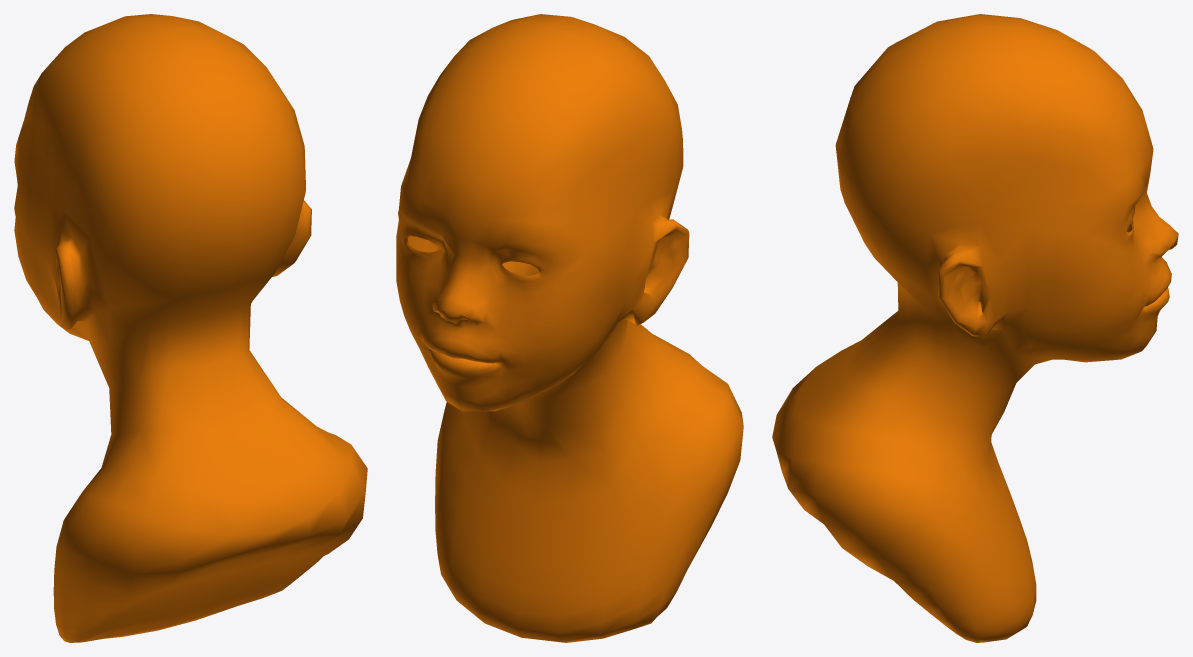
File: bust.glb
3 renders of one model, left to right at view 1: azimuth 30°, elevation 25°; view 2: azimuth 150°, elevation 25°; view 3: azimuth 270°, elevation 25°, orthographic. The views are drawn at different scales.
Parts seen in each view (by area): view 1: bust; view 2: bust; view 3: bust.
Boxes of the visible parts, left/top/right/bottom form: bust: left=14, top=14, right=367, bottom=642; bust: left=396, top=14, right=743, bottom=642; bust: left=772, top=14, right=1178, bottom=642.
Bounding box in the file's own units: 1.95 × 4.02 × 2.5.
